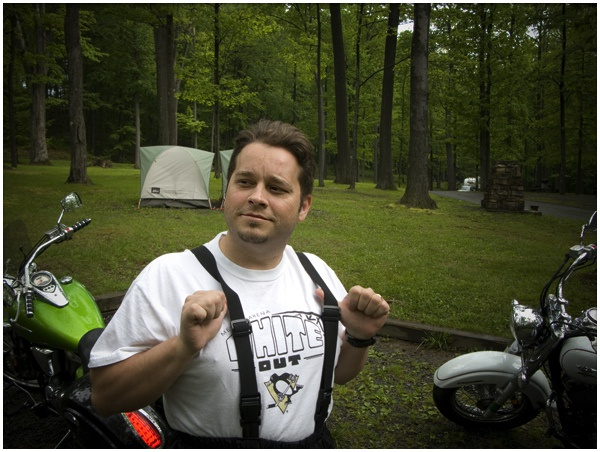non-vehicle: (3, 192, 170, 448), (433, 211, 596, 437)
